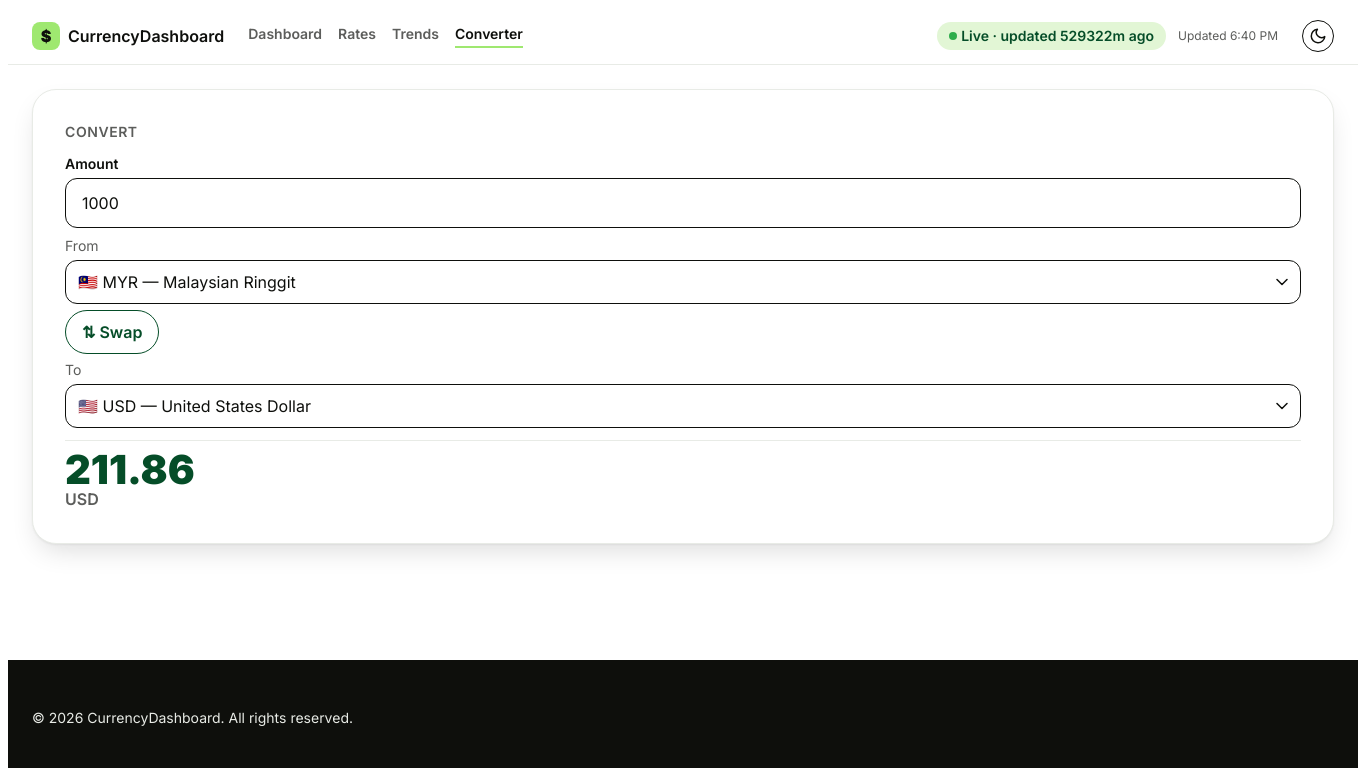
Test: Converter › swaps currencies
The width and height of the screenshot is (1366, 768).
Expected: the element with test id "converter-result" reads "211.86 USD", [65,440,1301,511]
Click the element with test id "swap-button". click: click(112, 332)
box: [65,310,159,354]
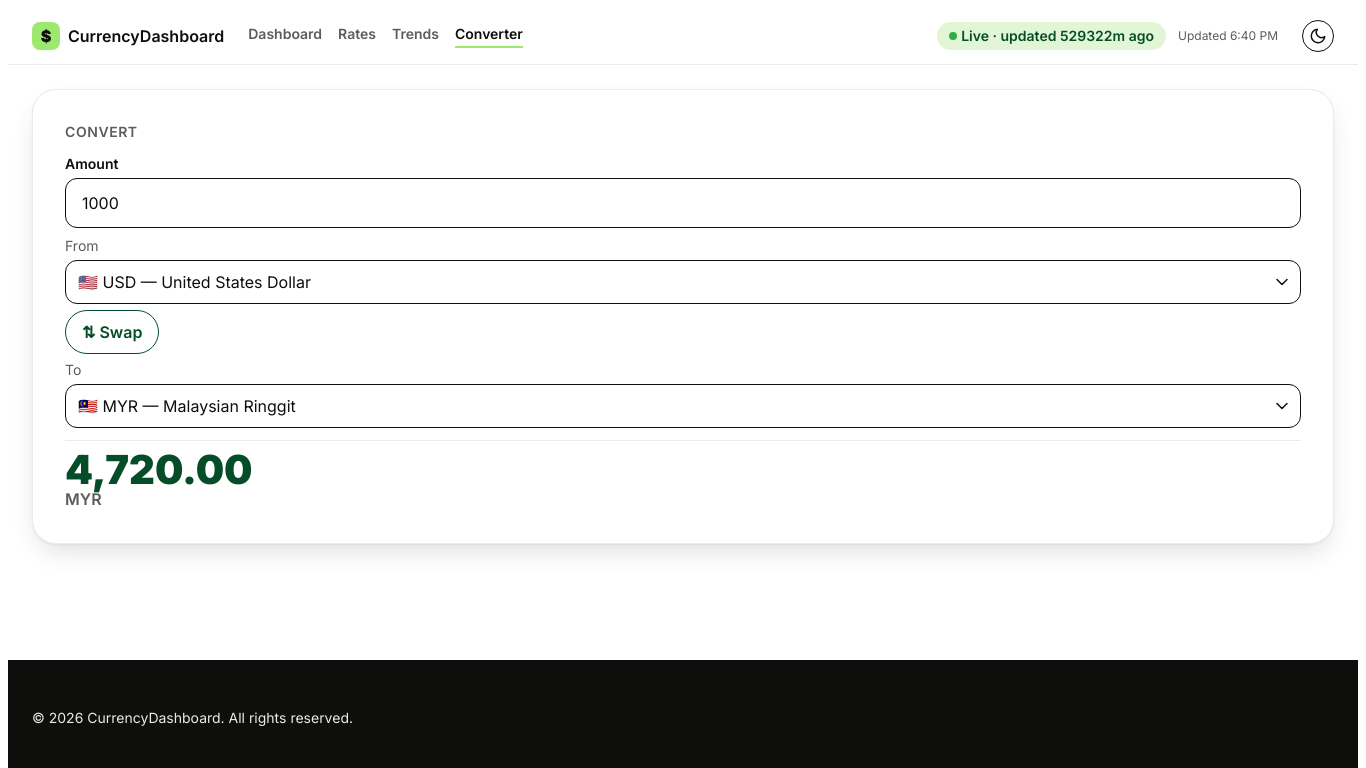
Expected: the element with test id "converter-result" reads "4,720.00 MYR", [65,440,1301,511]
